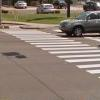Crosswalk: (16, 22, 100, 81)
